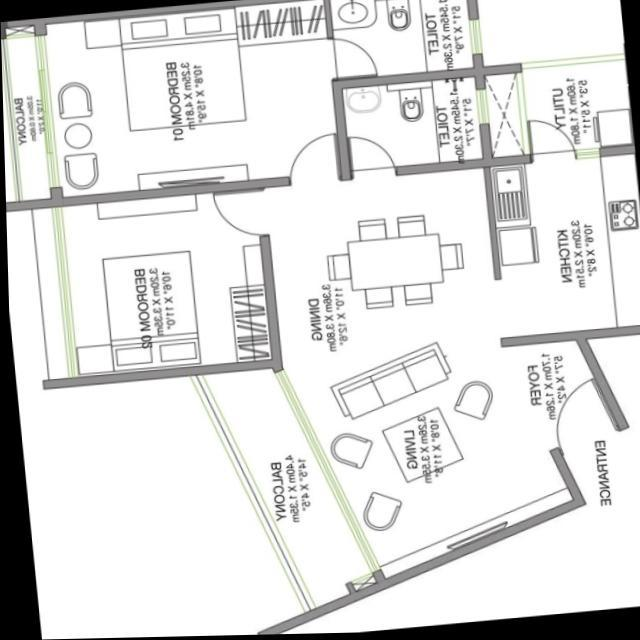Balcony-Sitout: (186, 371, 371, 610), (198, 370, 369, 610), (1, 36, 48, 201), (4, 33, 43, 197), (30, 213, 69, 377)
Bedroom: (54, 188, 274, 380), (59, 192, 269, 372)
Bedroom with Toilet: (1, 0, 473, 205), (37, 0, 476, 200)
Dining: (311, 197, 481, 329)
Enterance-Foyer: (500, 343, 617, 459), (540, 346, 614, 510)
Kitchen: (488, 156, 640, 339), (491, 159, 640, 338)
Living: (279, 336, 567, 575)
Toilet: (341, 79, 480, 172), (340, 79, 476, 170), (328, 0, 472, 81), (328, 0, 468, 82)
Utility: (487, 67, 625, 159), (520, 63, 630, 156)
